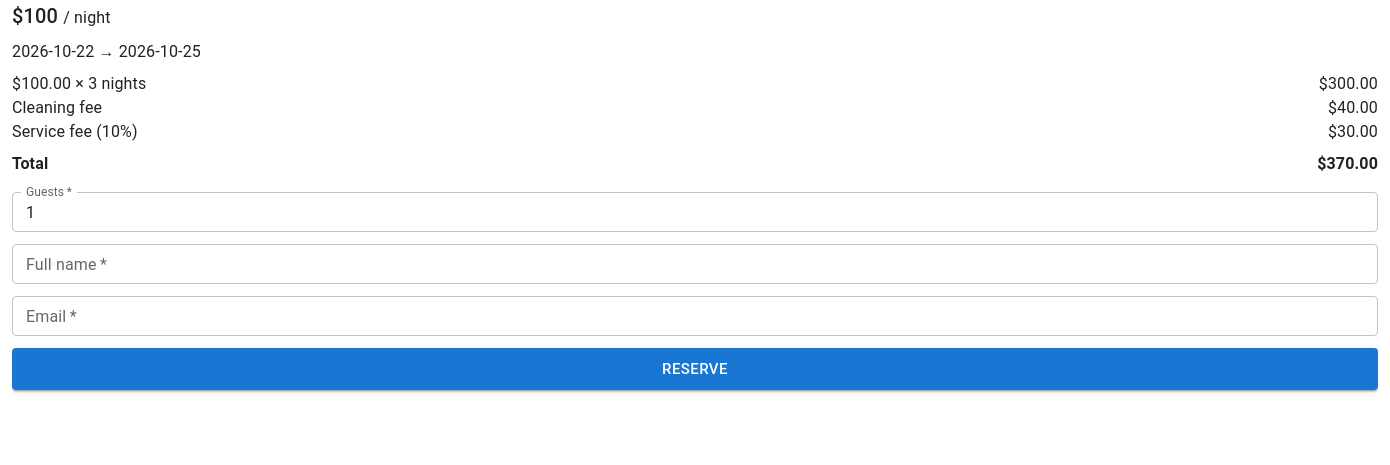
Test: BookingPanel › shows inline errors on an empty submit and sends nothing
What coordinates should you click on to do the following:
click the button "Reserve"
I would click on:
 (695, 369)
Its box is [12, 348, 1378, 390].
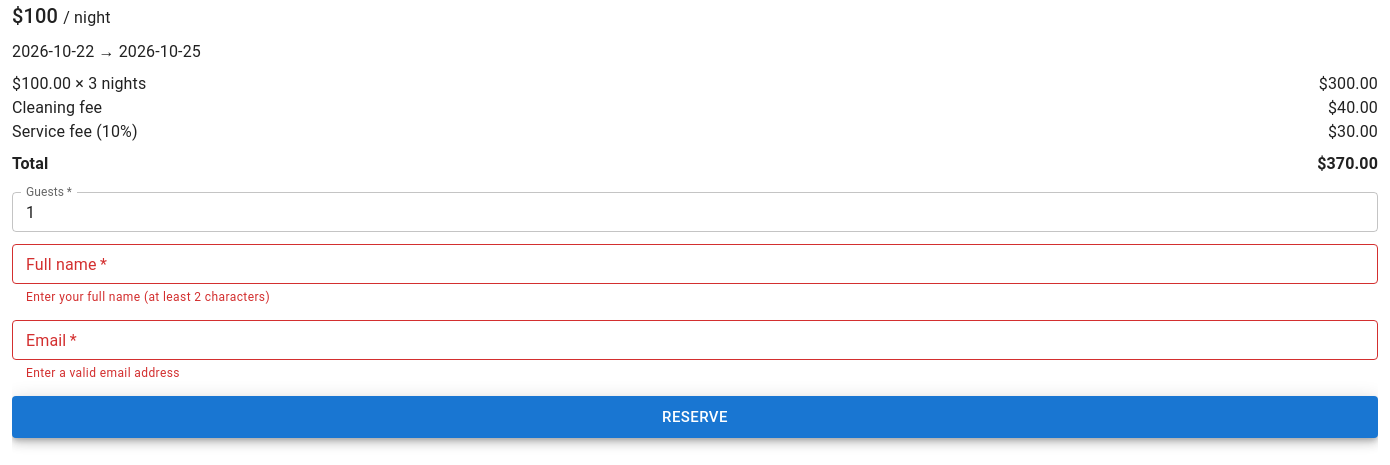
Expected: the text "Enter a valid email address" is shown, [26, 366, 180, 380]
Expected: the text "Enter your full name (at least 2 characters)" is shown, [26, 290, 270, 304]
